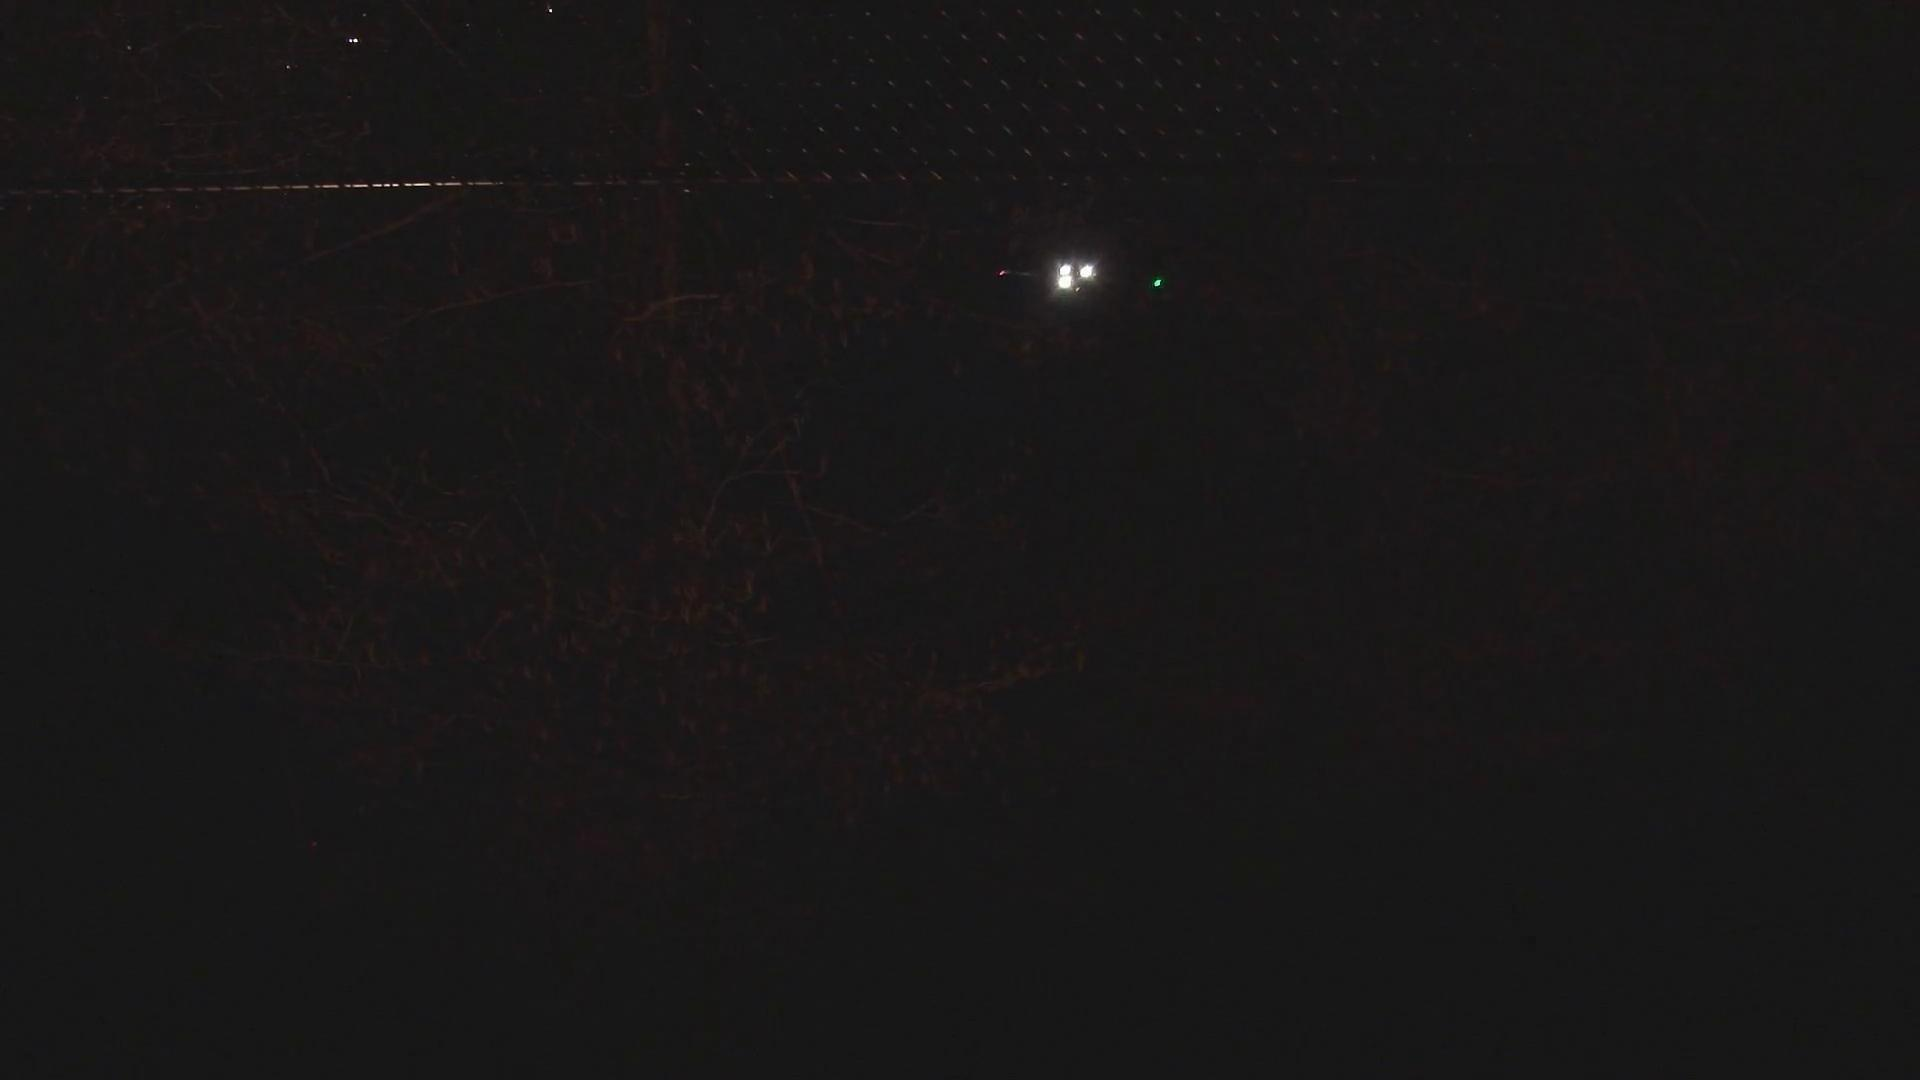Plane: (967, 247, 1168, 302)
